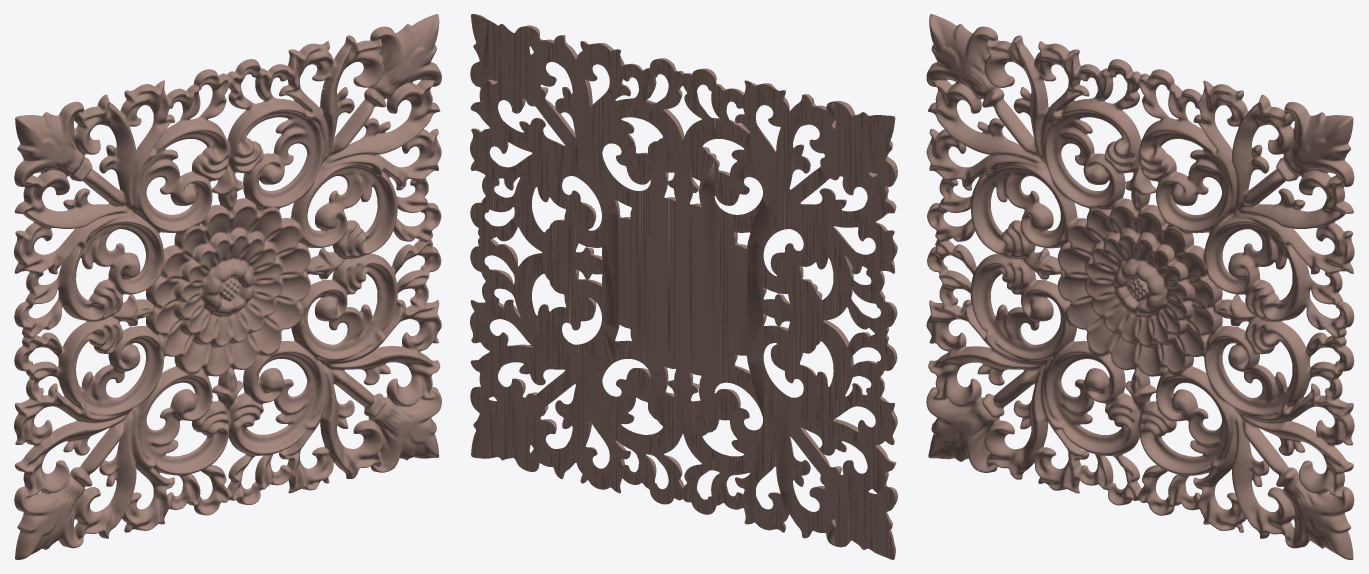
The model's file is centerpiece.glb.
The picture shows the model from 3 angles, left to right: view 1: azimuth 30°, elevation 25°; view 2: azimuth 150°, elevation 25°; view 3: azimuth 330°, elevation 25°; orthographic projection.
Visible parts, largest first — view 1: Plane; view 2: Plane; view 3: Plane.
Boxes of the visible parts, x1,y1,x2,y2 form: Plane: (14, 14, 441, 559); Plane: (470, 14, 897, 559); Plane: (926, 14, 1354, 559).
Size of the model in its own units: 1.99 by 1.99 by 0.0574.
